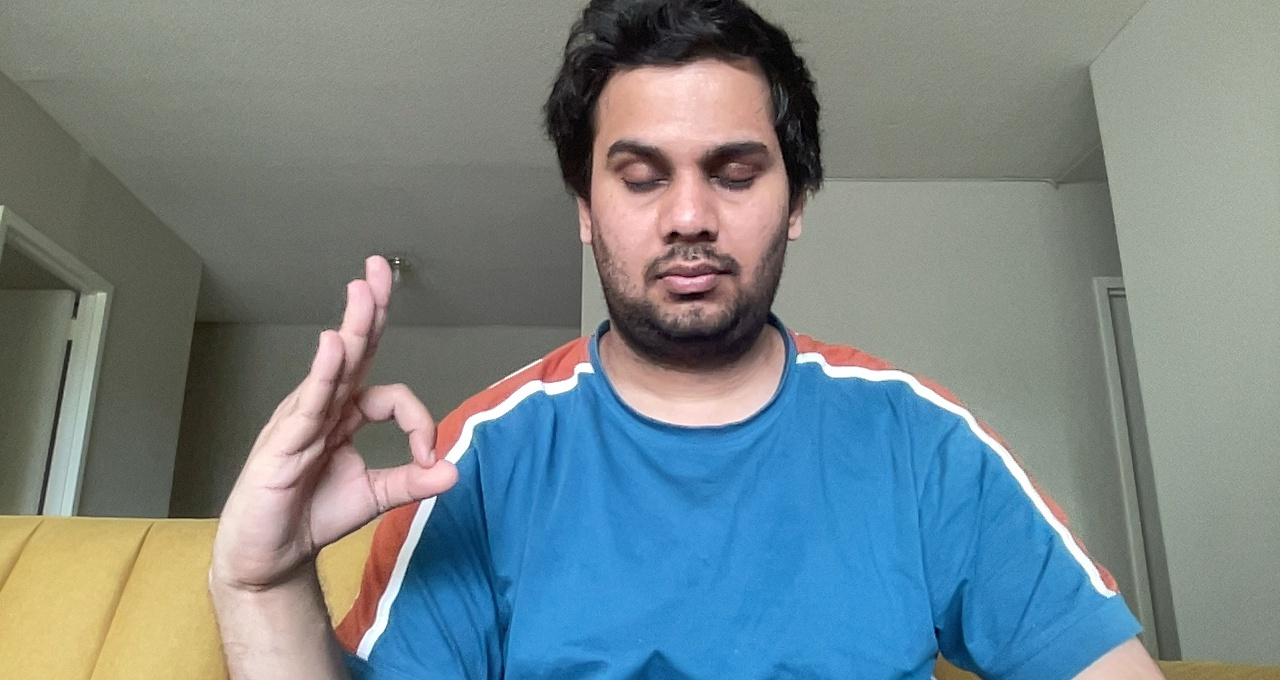ok: (235, 250, 467, 606)
